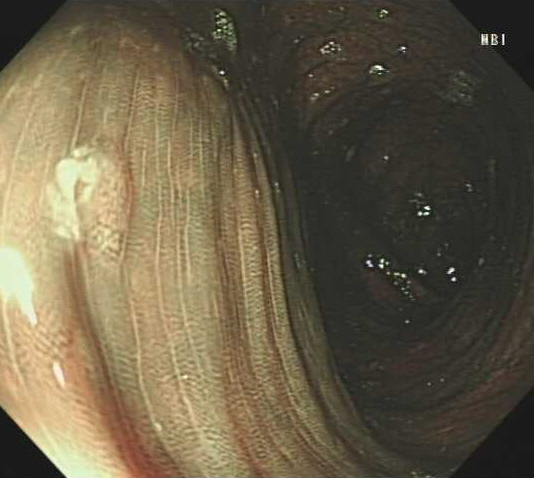others: (50, 139, 133, 265)
